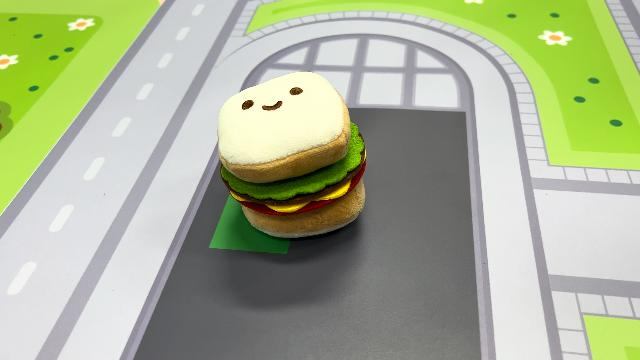sandwich: (214, 68, 370, 240)
